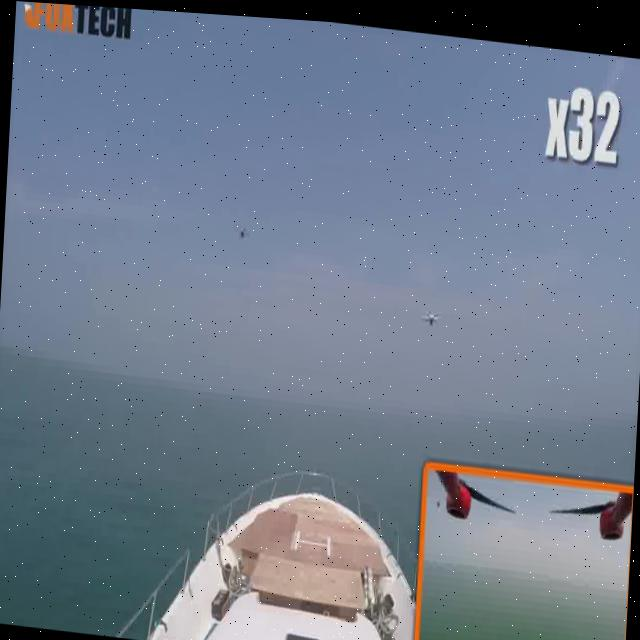drone: (416, 291, 444, 333), (232, 216, 252, 245)
